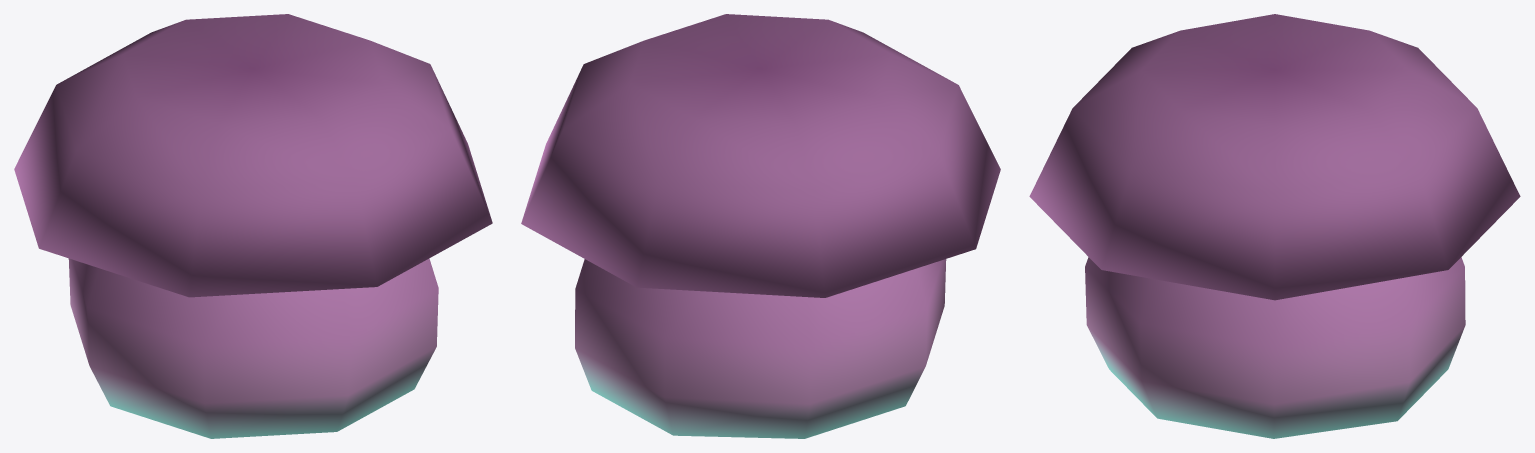
Rendered from BouncyMushroom.fbx.
The picture shows the model from 3 angles, left to right: view 1: azimuth 30°, elevation 25°; view 2: azimuth 150°, elevation 25°; view 3: azimuth 270°, elevation 25°; orthographic projection.
Parts seen in each view (by area): view 1: group3_pCylinder1; view 2: group3_pCylinder1; view 3: group3_pCylinder1.
Boxes of the visible parts, box(x1,y1,x2,y2) form: group3_pCylinder1: box(14, 14, 492, 438); group3_pCylinder1: box(521, 14, 1000, 438); group3_pCylinder1: box(1029, 14, 1520, 438).
Bounding box in the file's own units: 1.56 × 1.05 × 1.56.
